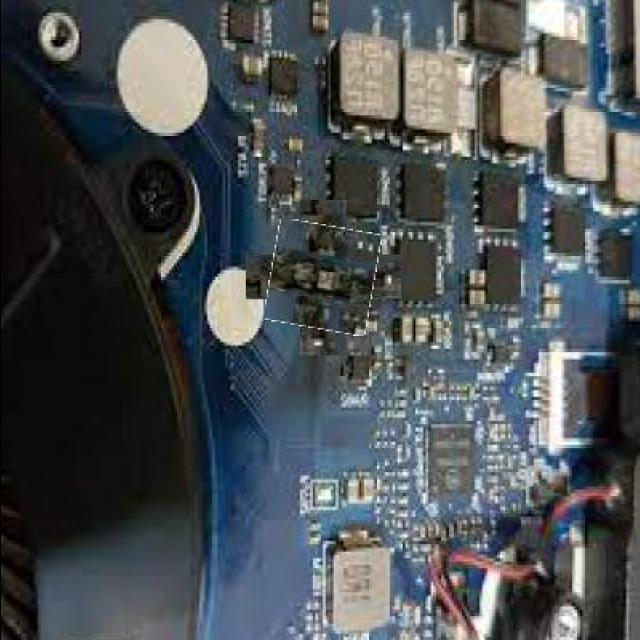Burn: (266, 222, 376, 332)
